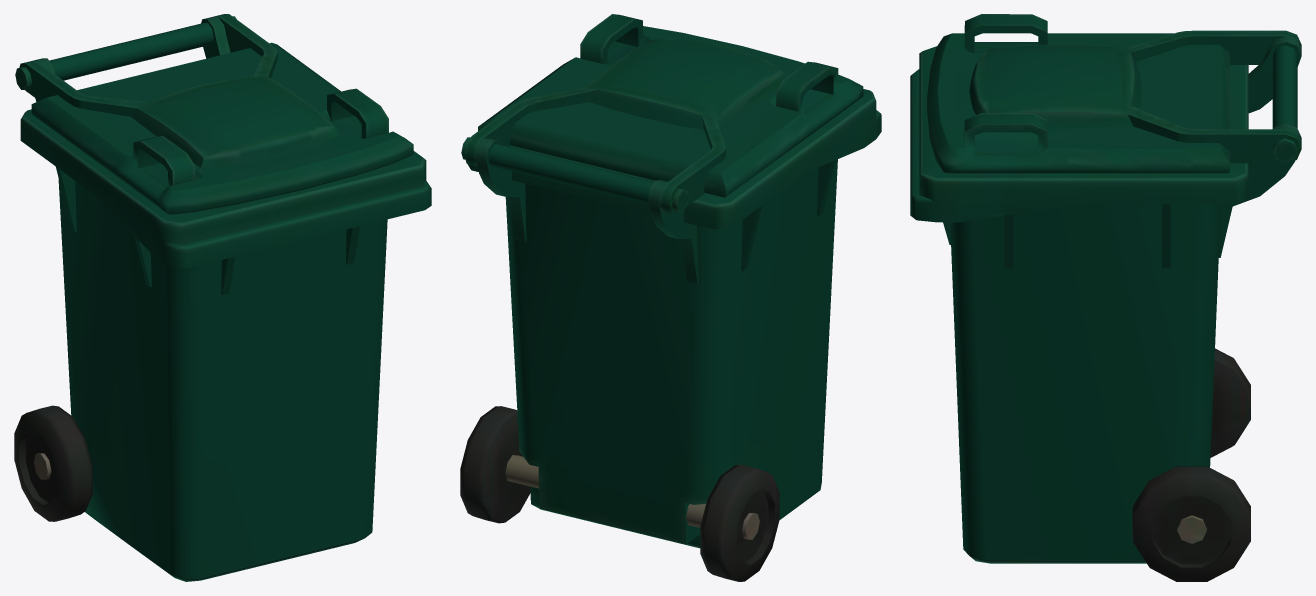
3 renders of one model, left to right at view 1: azimuth 30°, elevation 25°; view 2: azimuth 150°, elevation 25°; view 3: azimuth 270°, elevation 25°, orthographic. The views are drawn at different scales.
Size of the model in its own units: 6.62 by 10.03 by 7.95.
Materials: 1 (1 with a texture image).
